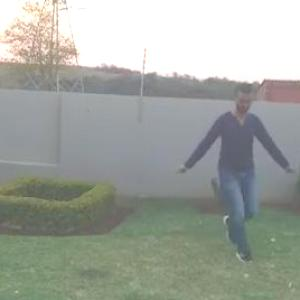land: (184, 80, 296, 245)
